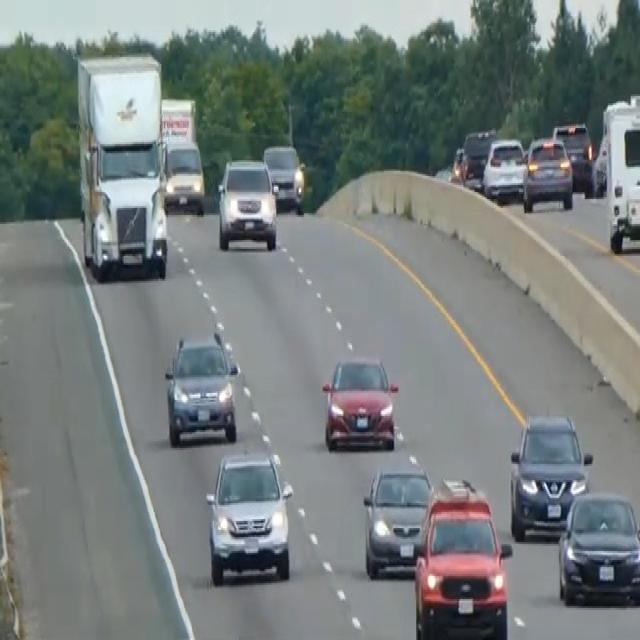car: (413, 476, 511, 638), (204, 448, 293, 585), (508, 409, 592, 540), (556, 489, 639, 606), (163, 329, 239, 446), (362, 455, 433, 580), (320, 352, 398, 452), (522, 134, 573, 212), (162, 137, 205, 215), (262, 140, 305, 213), (552, 119, 593, 190), (482, 135, 526, 201), (458, 126, 496, 188), (591, 132, 608, 196), (450, 142, 465, 183)
jeep: (215, 154, 278, 252)
lorry: (75, 50, 169, 281)
